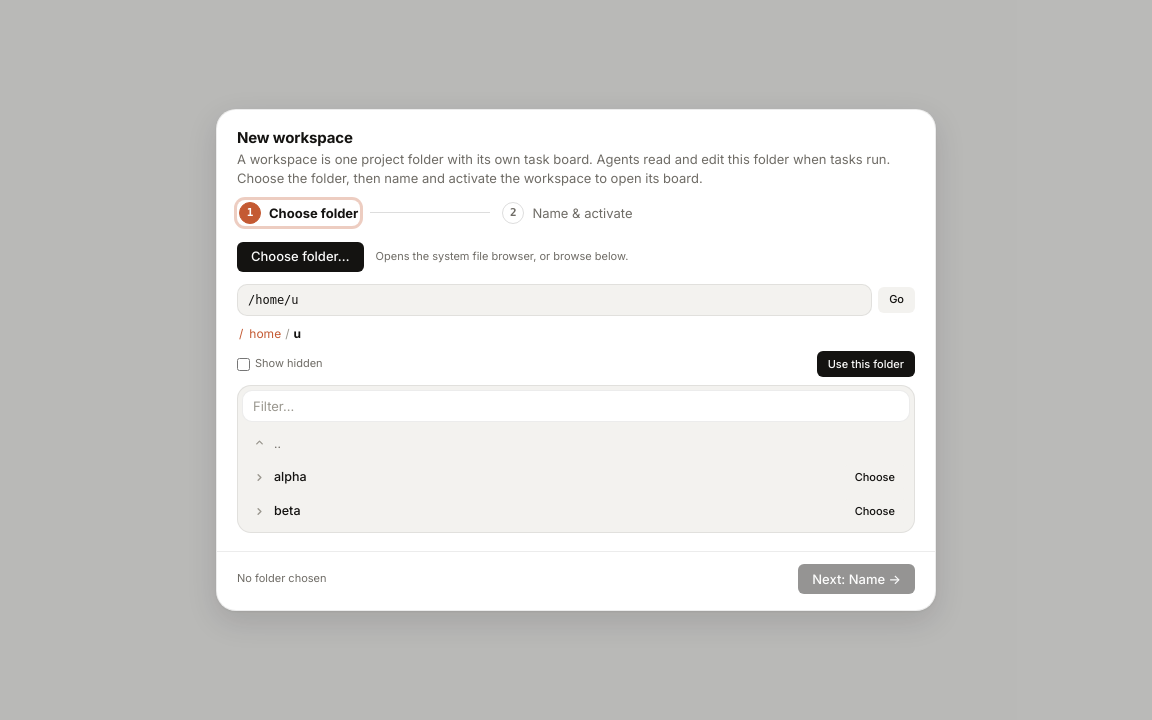
Test case: WorkspacePicker wizard › chooses one folder: a second choice replaces the first
Click the 1st button with class "ws-entry__choose".
click(875, 477)  # box [844,464,906,490]
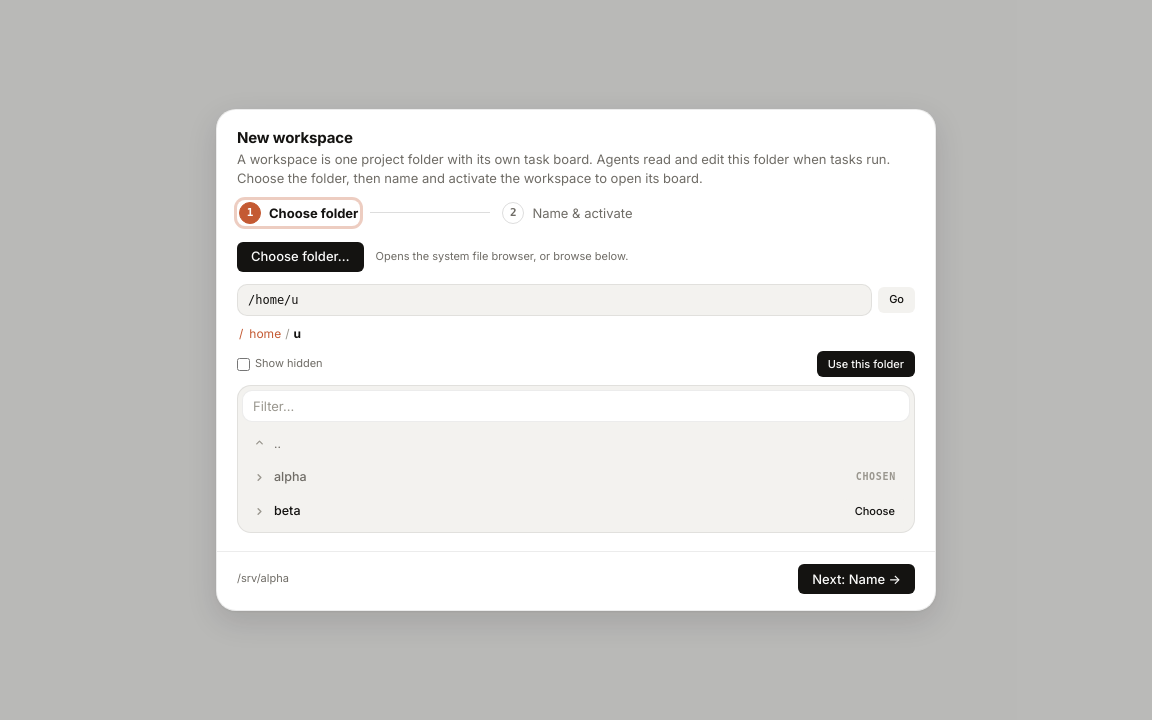
Expected: the text "chosen" is shown, [856,471,896,482]
Expected: the text with class "ws-step__count" reads "/srv/alpha", [237,572,289,586]
Click the button with class "ws-entry__choose".
click(875, 511)  # box [844,498,906,524]
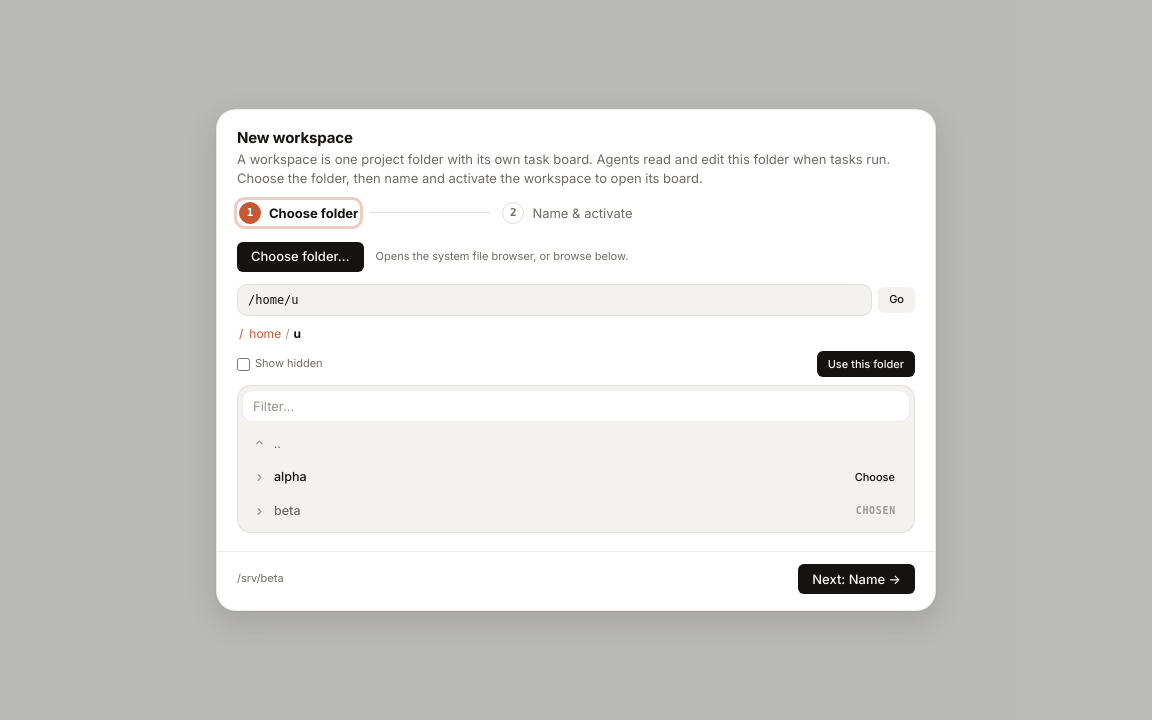
Expected: the number of elements with class "ws-entry__chosen" is 1, [856,505,896,516]
Expected: the text with class "ws-step__count" reads "/srv/beta", [237,572,284,586]
